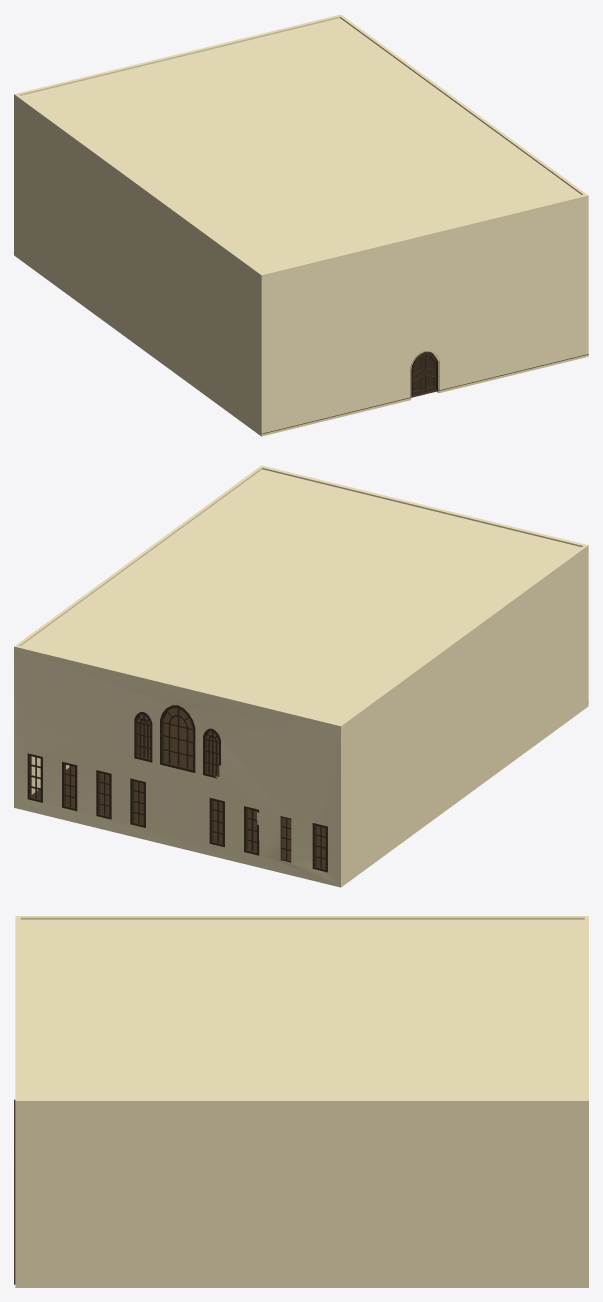
File: library_structure.glb
3 renders of one model, top to bottom at view 1: azimuth 30°, elevation 25°; view 2: azimuth 150°, elevation 25°; view 3: azimuth 270°, elevation 25°, orthographic. The views are drawn at different scales.
Parts seen in each view (by area): view 1: walls, ceiling, door; view 2: walls, ceiling, windows, large_windows, floor, second_floor; view 3: walls, ceiling.
Part boxes in pixels (bbox=[...]): walls: bbox=[14, 14, 588, 436]; ceiling: bbox=[21, 18, 580, 272]; door: bbox=[412, 353, 436, 395]; walls: bbox=[14, 465, 588, 887]; ceiling: bbox=[21, 469, 581, 723]; windows: bbox=[27, 753, 327, 872]; large_windows: bbox=[134, 705, 220, 778]; floor: bbox=[31, 766, 325, 867]; second_floor: bbox=[138, 708, 218, 774]; walls: bbox=[15, 916, 588, 1287]; ceiling: bbox=[20, 919, 584, 1099].
Bounding box in the file's own units: 26.81 × 12.63 × 35.23.
Materials: 2 (1 with a texture image).
